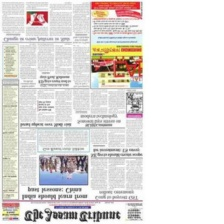news_paper: (0, 0, 146, 223)
